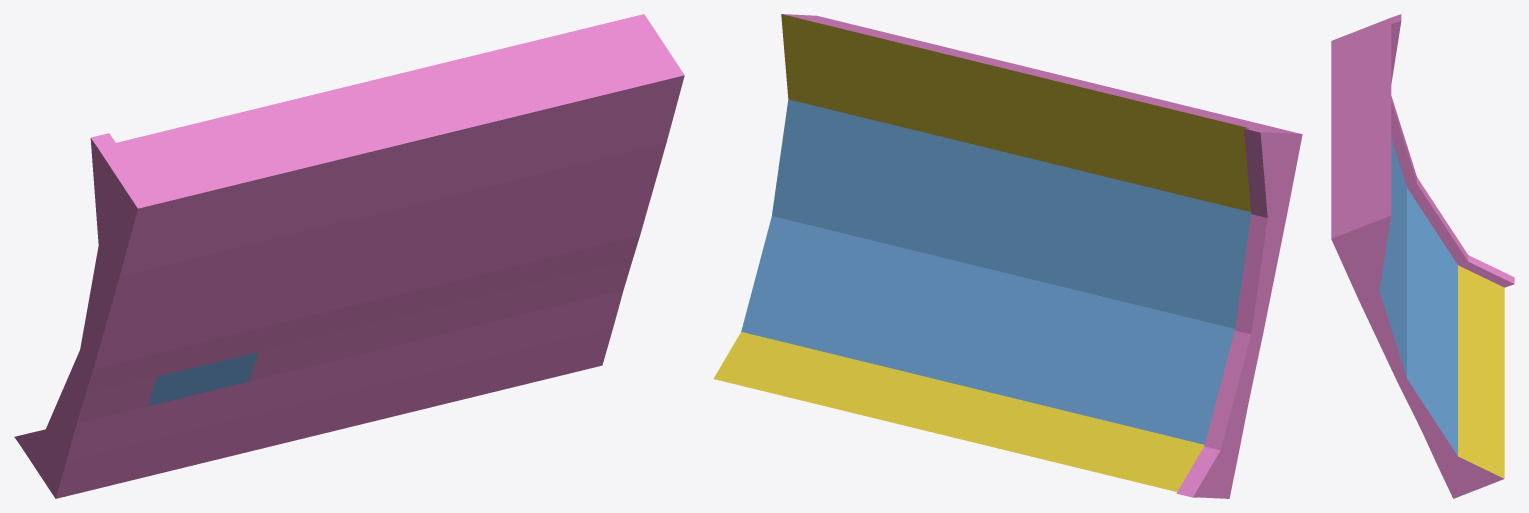
File: Walls_open.fbx
The picture shows the model from 3 angles, left to right: view 1: azimuth 30°, elevation 25°; view 2: azimuth 150°, elevation 25°; view 3: azimuth 270°, elevation 25°; orthographic projection. The views are drawn at different scales.
Parts seen in each view (by area): view 1: Cylinder; view 2: Cylinder; view 3: Cylinder.
Boxes of the visible parts, x1,y1,x2,y2 form: Cylinder: [14, 14, 684, 498]; Cylinder: [713, 14, 1302, 498]; Cylinder: [1331, 14, 1514, 498].
Size of the model in its own units: 12 by 8.11 by 4.7.
